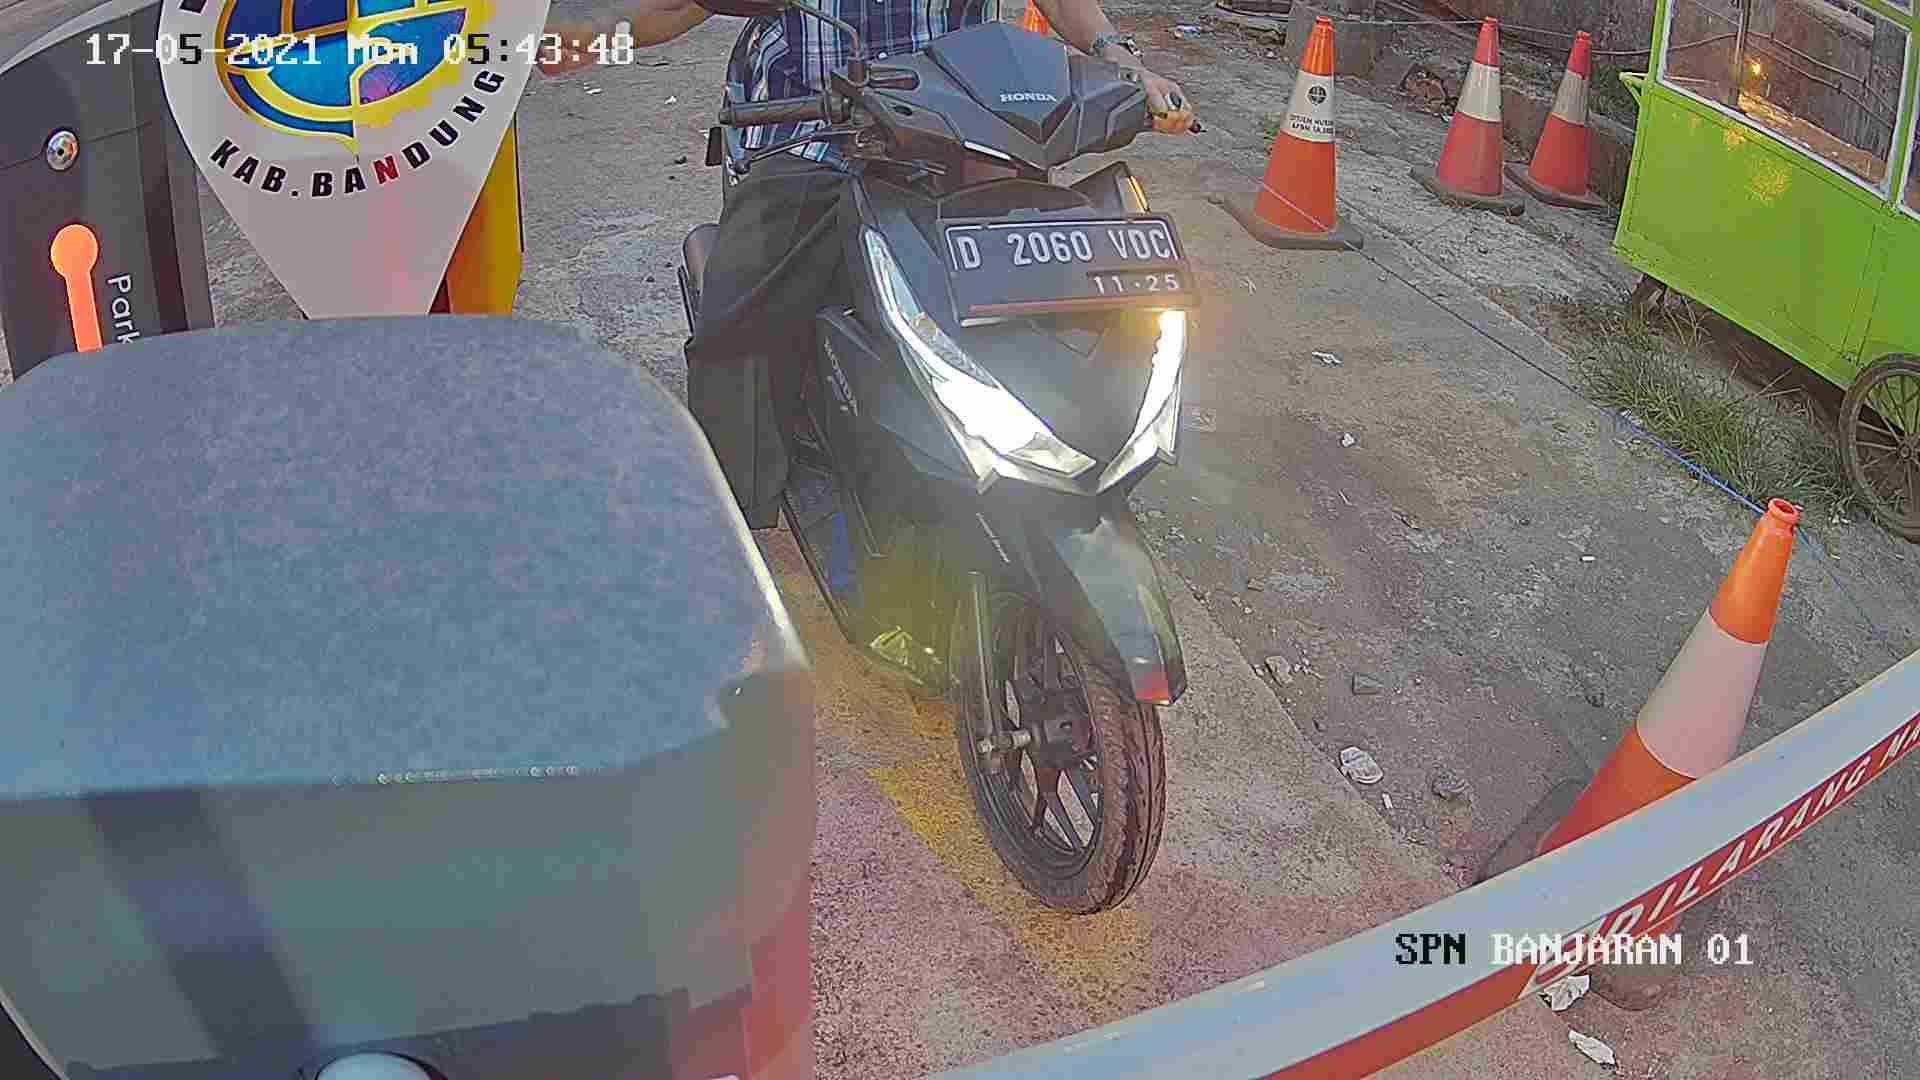motor: (724, 55, 1292, 928)
